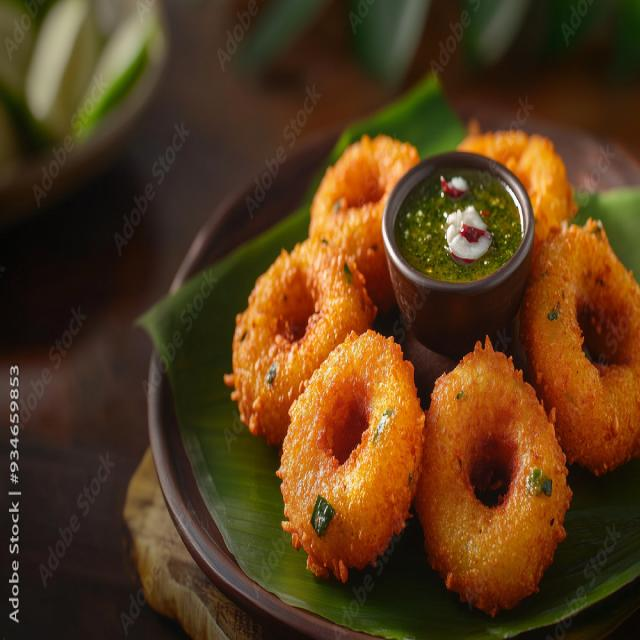MEDU VADA: (414, 344, 568, 612), (276, 327, 424, 581), (230, 237, 375, 448), (526, 214, 639, 473), (311, 133, 418, 297), (468, 125, 565, 256)
